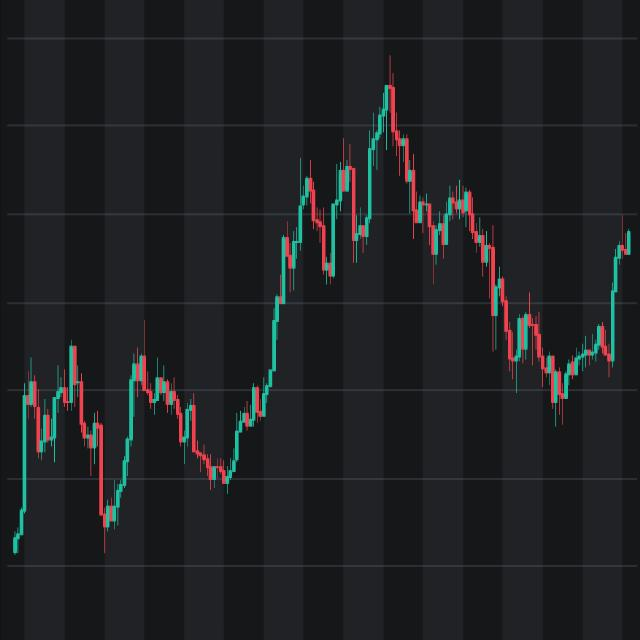Resistance-breakout: (123, 164, 308, 484)
Rounding-Top: (263, 55, 556, 395)
